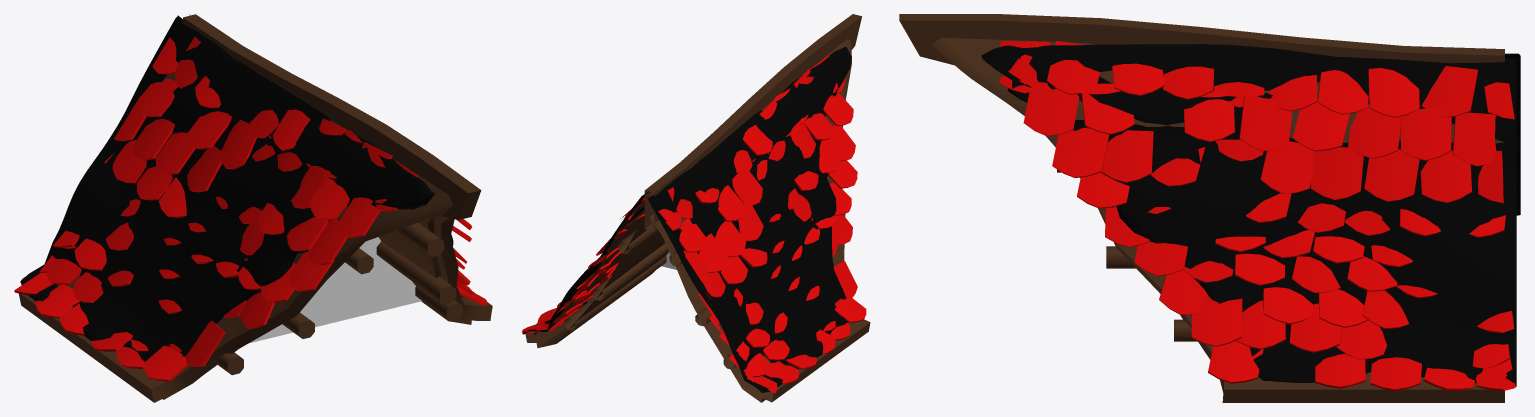
File: Roof Half.fbx
The picture shows the model from 3 angles, left to right: view 1: azimuth 30°, elevation 25°; view 2: azimuth 150°, elevation 25°; view 3: azimuth 270°, elevation 25°; orthographic projection. The views are drawn at different scales.
Parts seen in each view (by area): view 1: polySurface16; view 2: polySurface16; view 3: polySurface16.
Part boxes in pixels (x1,y1,x2,y2): polySurface16: (14,14,492,402); polySurface16: (522,14,870,402); polySurface16: (899,14,1520,402).
Bounding box in the file's own units: 5.15 × 4 × 7.43.
